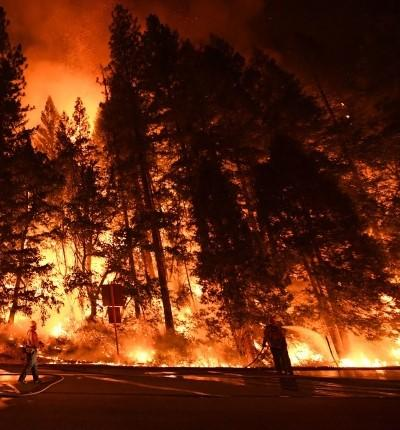victim: (11, 319, 51, 386), (258, 316, 297, 382)
